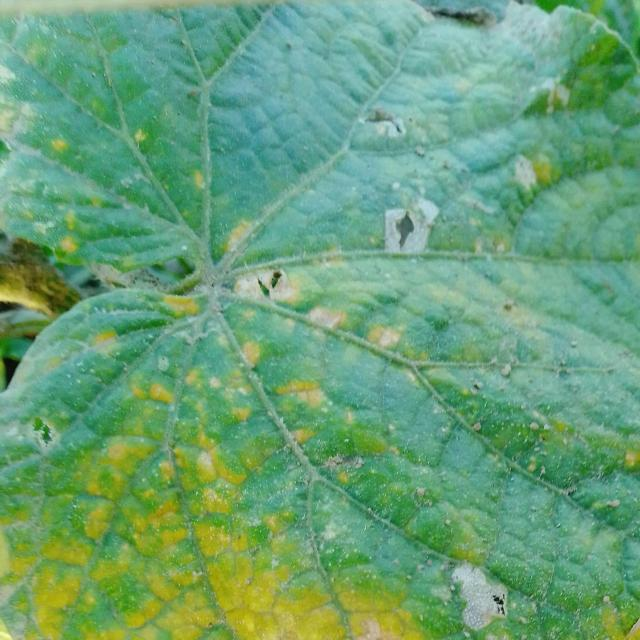cucumber_anthracnose: (14, 17, 614, 635)
